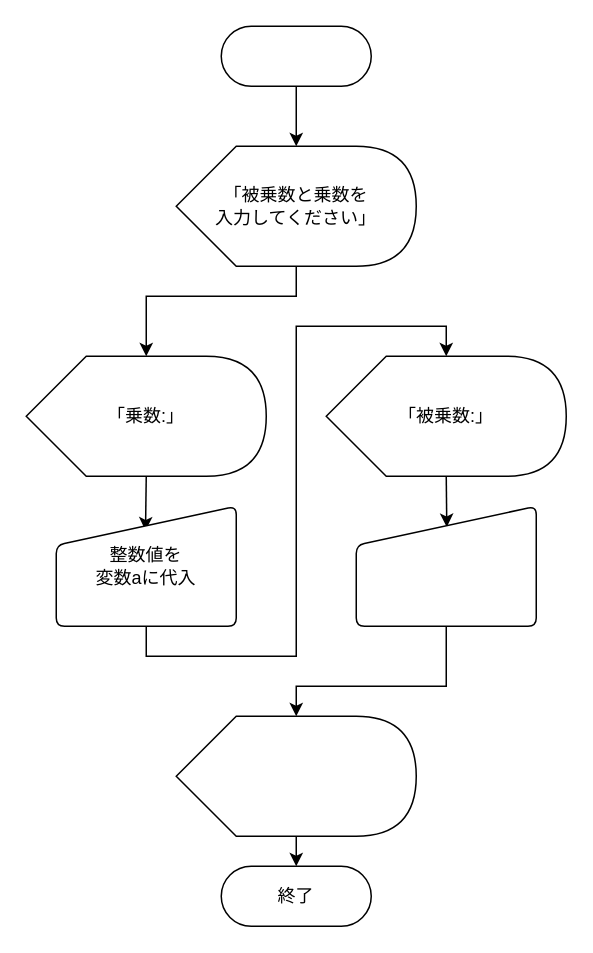
The diagram is 593 pixels wide and 953 high, and some of its shapes have lost their labels. Here are the shapes that lost their labels. From the top down, the centre of each, then its label:
At [295,55]: "開始".
At [445,565]: "整数値を 変数bに代入".
At [295,775]: "「a x b=(a*bの演算結果)」".
